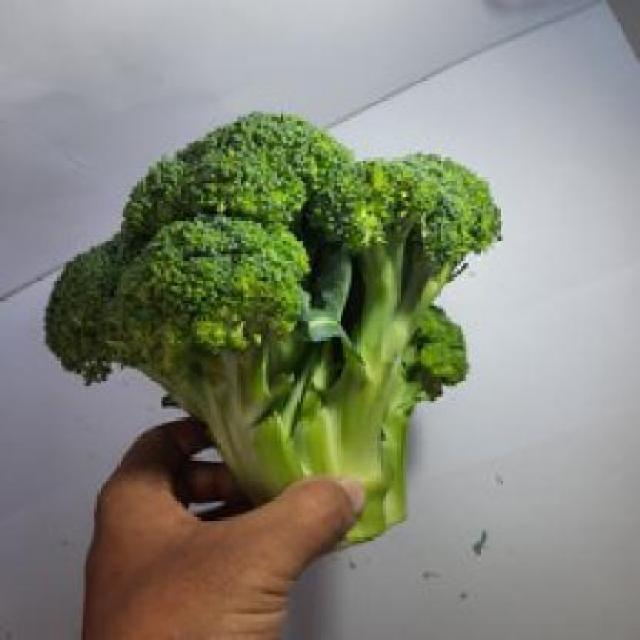broccoli: (40, 128, 480, 548)
